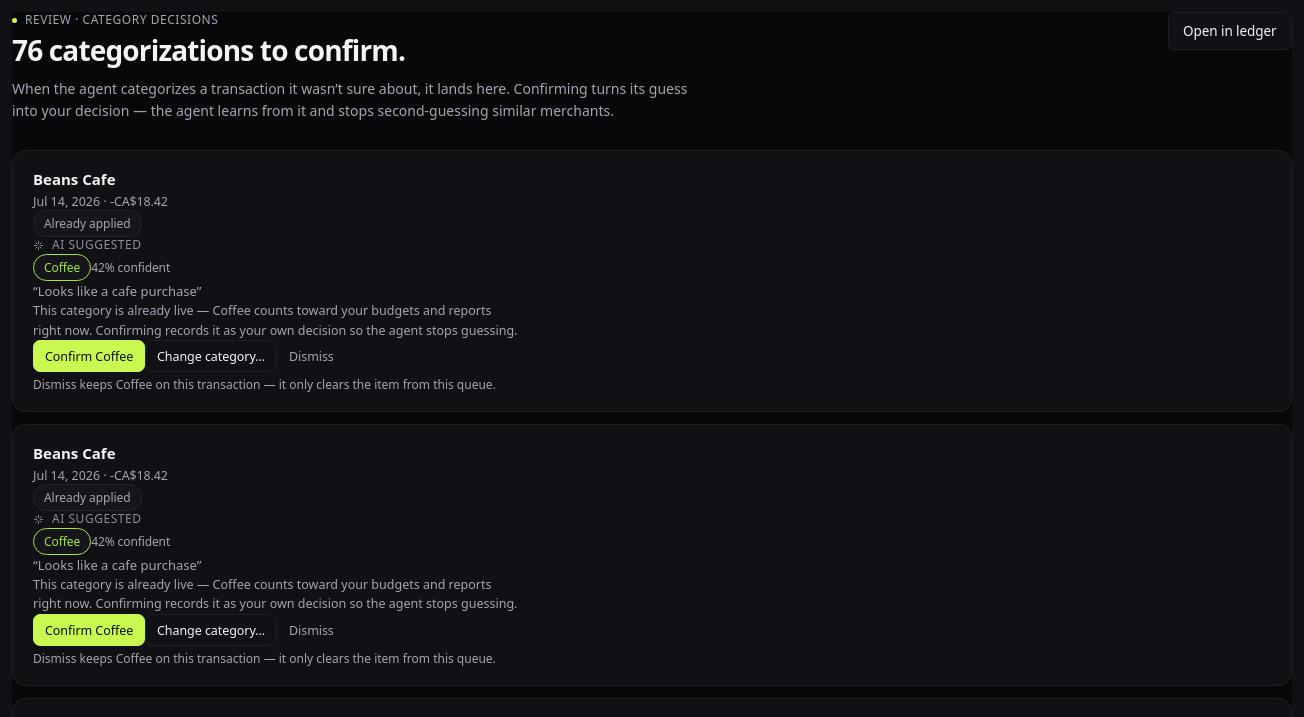
Test: CategoryReview — the queue itself › never shrinks the enrichment limit when resolving an item crosses a bucket boundary
Expected: the heading "76 categorizations to confirm." is shown, [12,35,405,66]
Dismissing invalidates the queue, which refetches it at 75.
Click the button with aria-label "Dismiss the suggestion" at coordinates (312, 356), box [277,340,346,372]
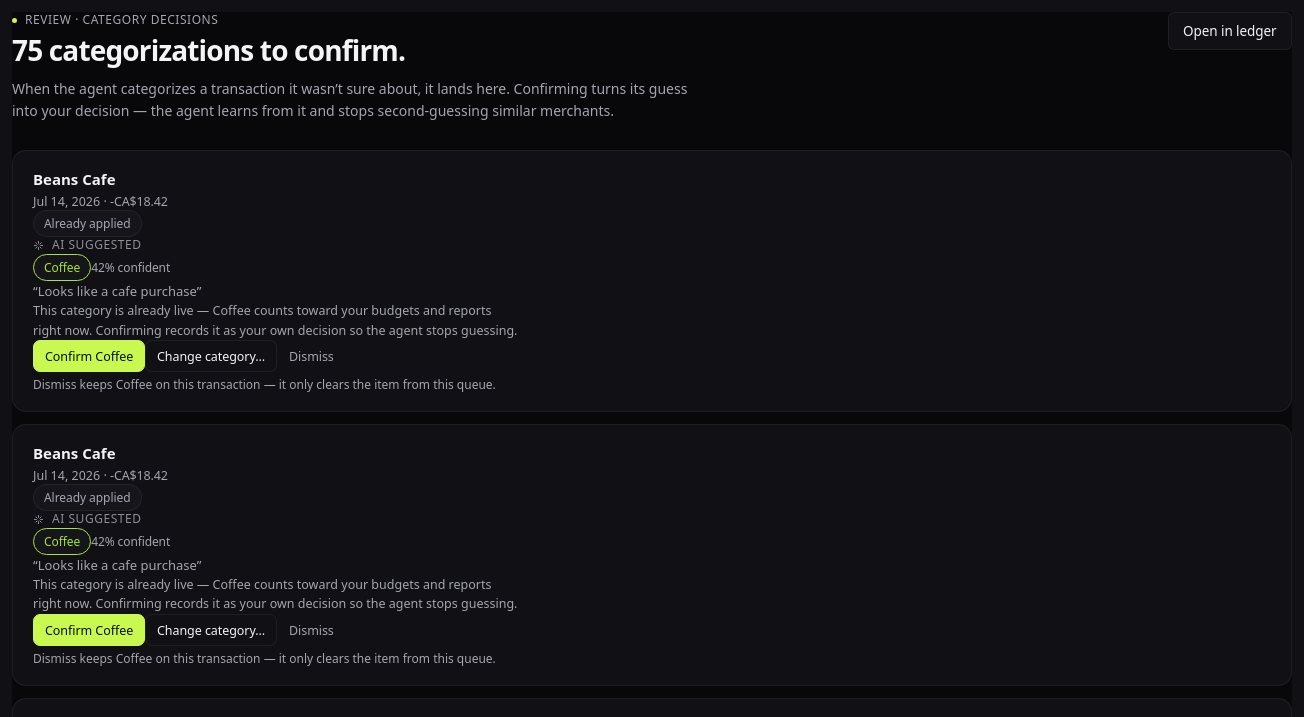
Now the heading "75 categorizations to confirm." is shown, box [12,35,405,66]
